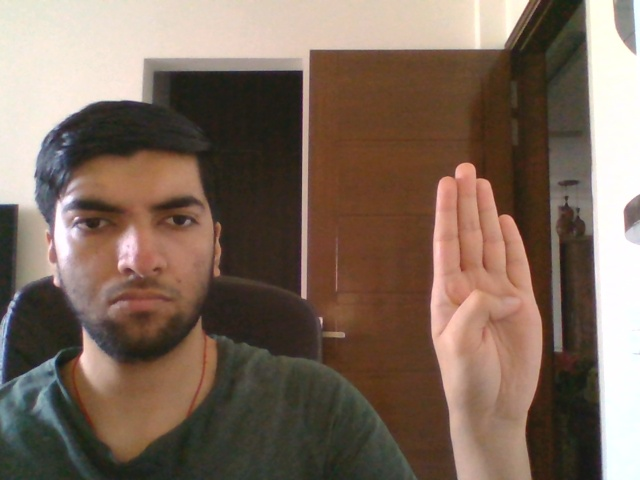LetterB: (428, 161, 545, 426)
